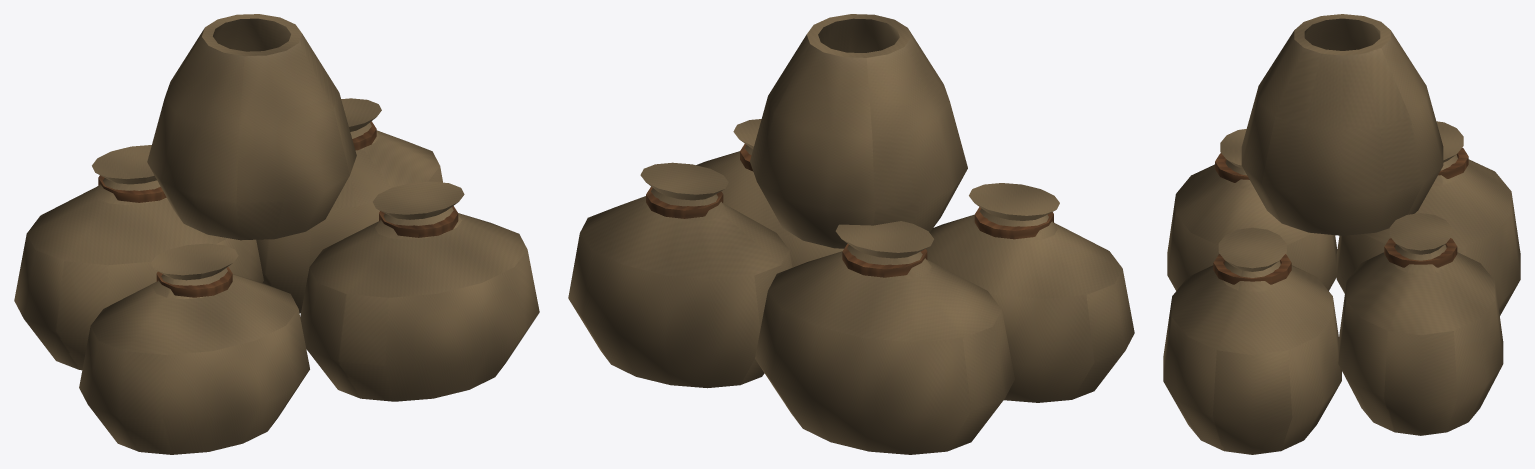
The model's file is Furn_Storage_SackPile.fbx.
3 views of the same model, side by side, from view 1: azimuth 30°, elevation 25°; view 2: azimuth 150°, elevation 25°; view 3: azimuth 270°, elevation 25° (orthographic). The views are drawn at different scales.
Parts seen in each view (by area): view 1: Furn_Storage_SackPile; view 2: Furn_Storage_SackPile; view 3: Furn_Storage_SackPile.
Part boxes in pixels (<box>): Furn_Storage_SackPile: <box>14,14,539,454</box>; Furn_Storage_SackPile: <box>568,14,1134,454</box>; Furn_Storage_SackPile: <box>1163,14,1520,454</box>.
Size of the model in its own units: 1.4 by 1 by 1.
Materials: 2 (2 with a texture image).
